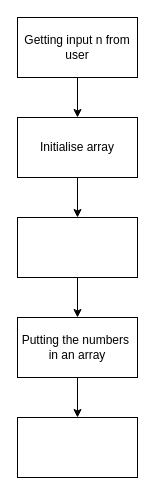
Image size: 155x495. Some labels were removed from this diagram. The shapes that lost their labels are listed below. From the top down, each one's centre as x and y in pixels, then its label:
At (77,247): "Generating n numbers from -1 which meets the request".
At (77,447): "Printing out numbers from the array in the format requested".
